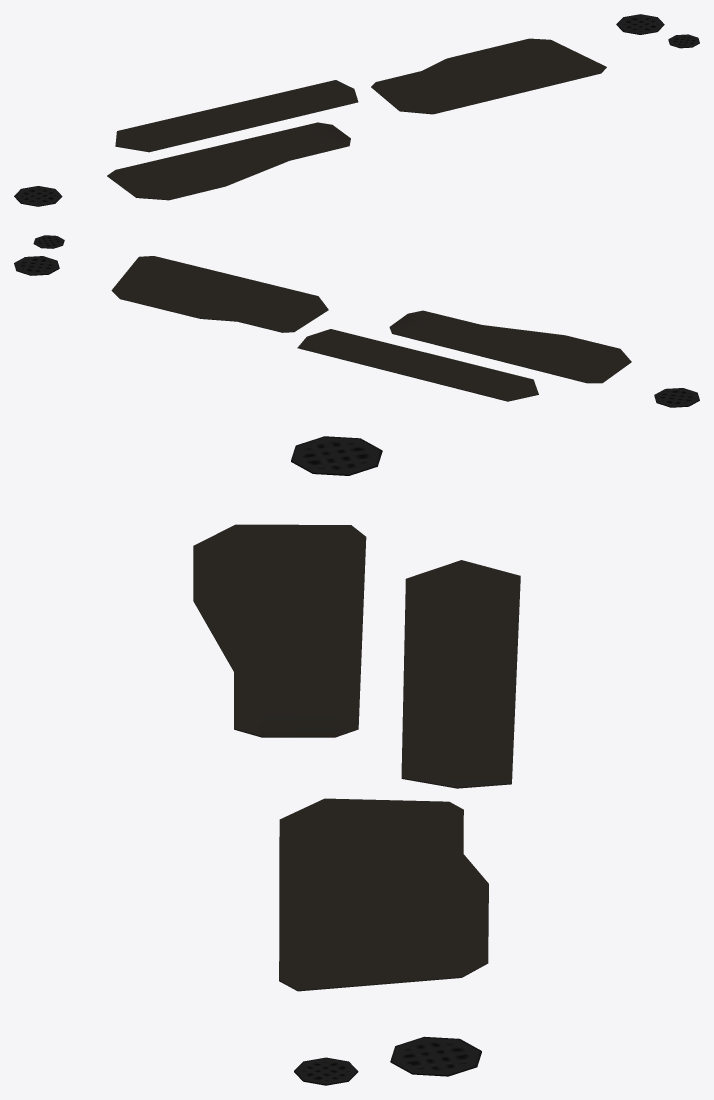
Rendered from Env_Repaired_Load_Manhole.fbx.
3 renders of one model, top to bottom at view 1: azimuth 30°, elevation 25°; view 2: azimuth 150°, elevation 25°; view 3: azimuth 270°, elevation 25°, orthographic. The views are drawn at different scales.
Parts seen in each view (by area): view 1: Env_Repaired_Load_Manhole; view 2: Env_Repaired_Load_Manhole; view 3: Env_Repaired_Load_Manhole.
Part boxes in pixels (<box>): Env_Repaired_Load_Manhole: <box>14,14,699,206</box>; Env_Repaired_Load_Manhole: <box>14,235,699,407</box>; Env_Repaired_Load_Manhole: <box>193,436,520,1085</box>.
Size of the model in its own units: 1338 by 1 by 286.
